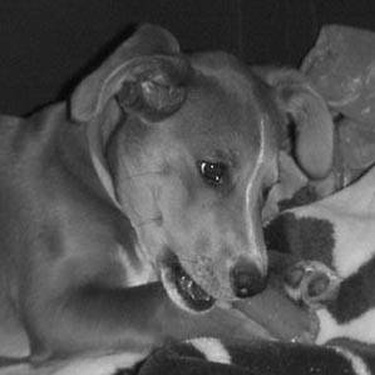dog: (2, 17, 349, 371)
